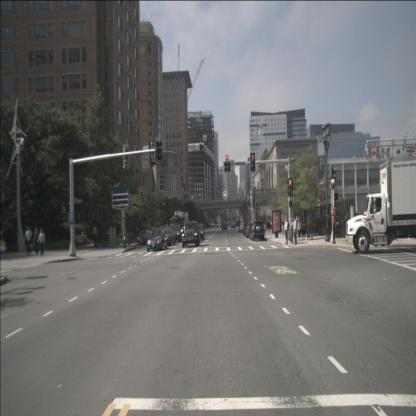human-pedestrian-adult: (24, 225, 32, 256), (38, 228, 46, 256), (32, 227, 40, 254), (92, 224, 98, 247), (289, 218, 294, 245), (301, 216, 306, 240), (293, 216, 297, 244), (307, 213, 311, 240), (284, 218, 288, 245), (296, 216, 300, 236), (298, 217, 301, 241), (281, 218, 285, 235), (81, 232, 86, 244)
vehicle-car: (335, 212, 366, 236), (146, 229, 168, 252), (182, 220, 200, 248), (251, 220, 265, 241), (161, 228, 176, 247), (137, 230, 151, 246), (172, 225, 182, 243), (245, 223, 255, 238), (196, 224, 205, 240), (243, 221, 252, 236), (239, 223, 245, 233), (222, 222, 228, 231), (231, 222, 236, 229), (211, 221, 215, 228)
vehicle-truck: (345, 155, 416, 255), (314, 209, 349, 235)
